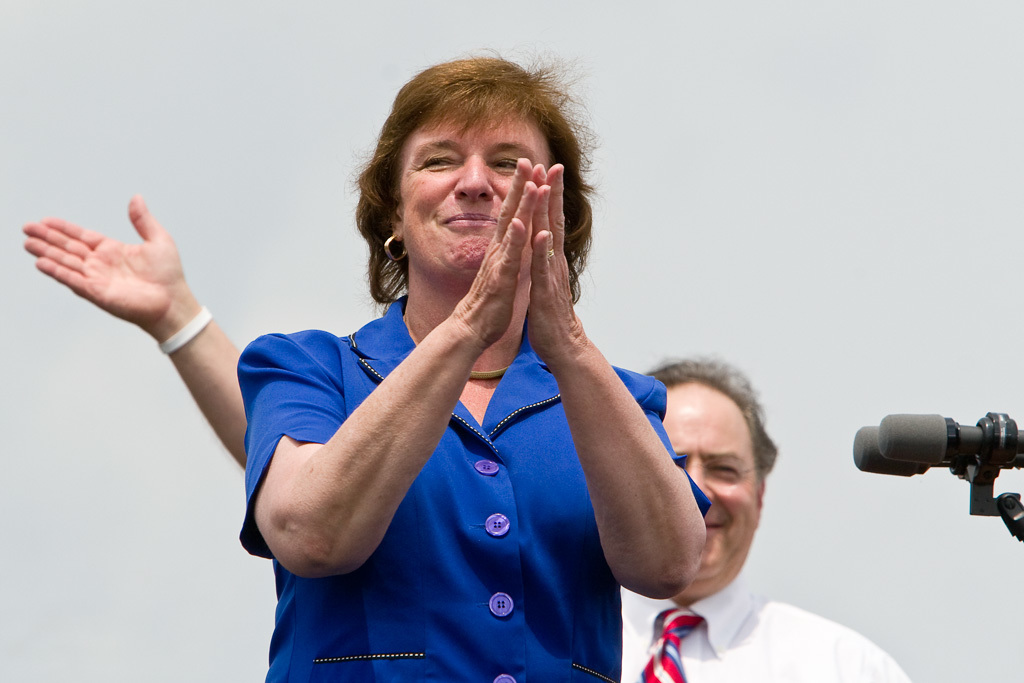Human-face: (397, 103, 551, 289), (658, 401, 759, 582)
